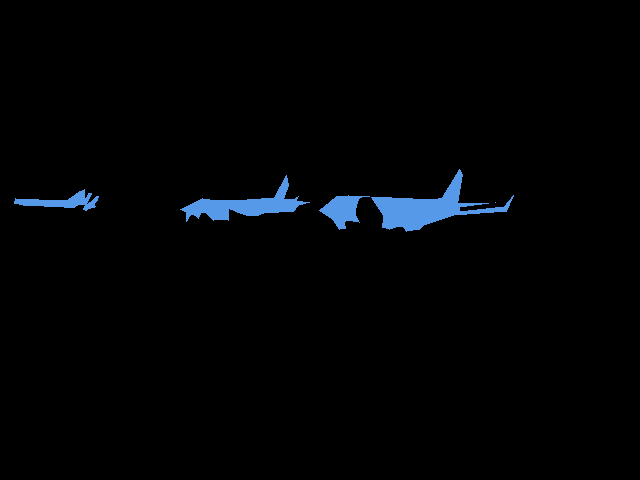Airplane: (319, 169, 514, 231), (180, 175, 309, 221), (14, 189, 84, 208), (83, 196, 99, 211), (79, 193, 92, 205)
